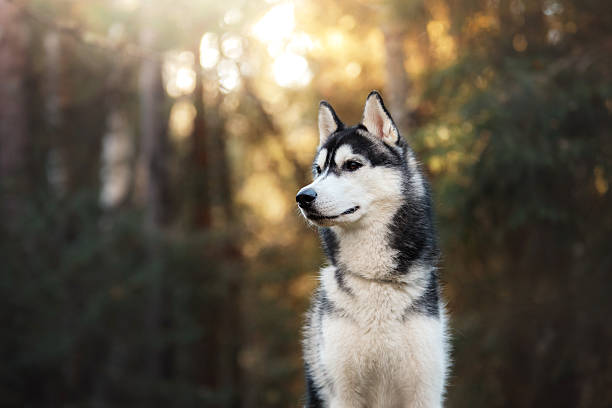husky: (277, 83, 468, 406)
